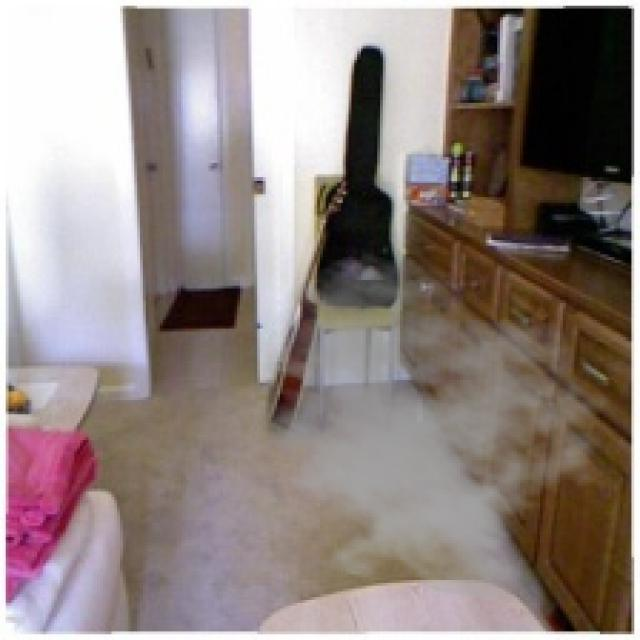Smoke: (225, 251, 618, 606)
